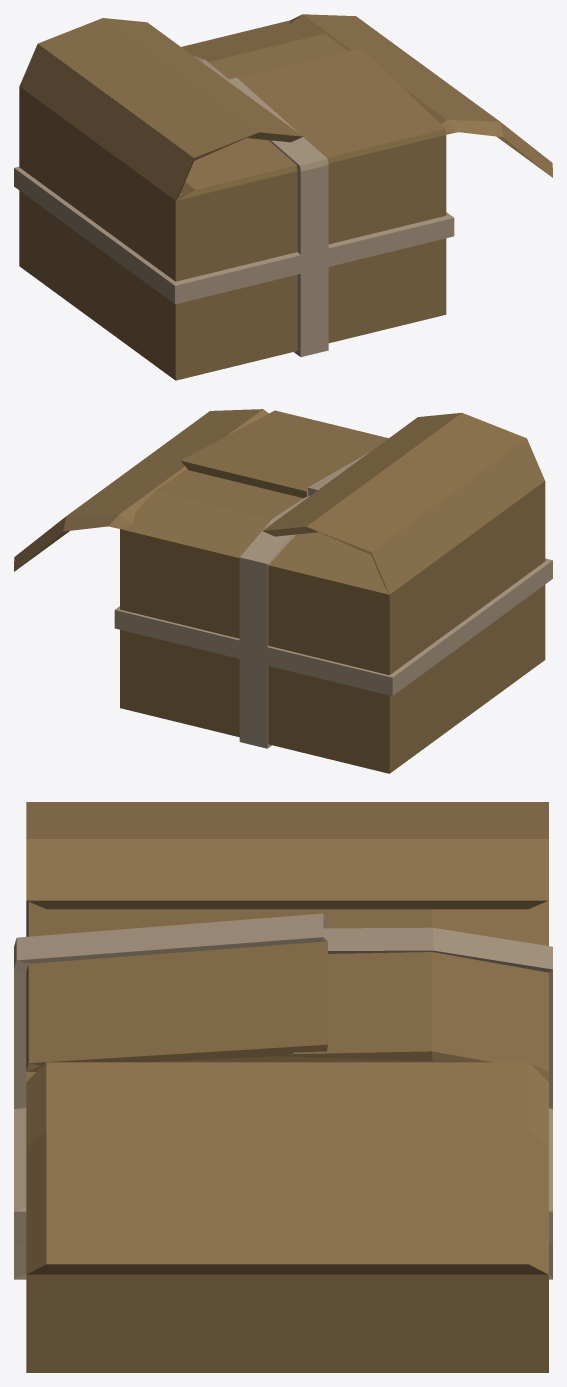
The model's file is carton 3.fbx.
The picture shows the model from 3 angles, top to bottom: view 1: azimuth 30°, elevation 25°; view 2: azimuth 150°, elevation 25°; view 3: azimuth 270°, elevation 25°; orthographic projection. The views are drawn at different scales.
Parts seen in each view (by area): view 1: pCube10; view 2: pCube10; view 3: pCube10.
Boxes of the visible parts, box(x1,y1,x2,y2) form: pCube10: box(14, 14, 552, 380); pCube10: box(14, 409, 552, 773); pCube10: box(14, 802, 552, 1372).
Size of the model in its own units: 2.52 by 1.44 by 1.82.
